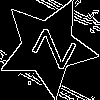Z: (22, 22, 77, 71)
